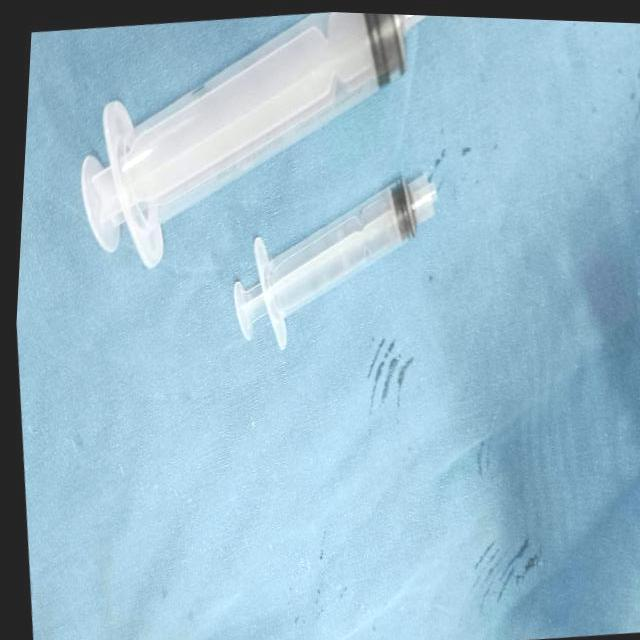Infectious: (78, 12, 411, 269)
Pathological: (15, 11, 639, 640)
Sharps: (231, 171, 439, 350)
